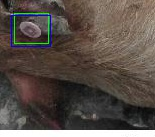text: (14, 13, 48, 43)
